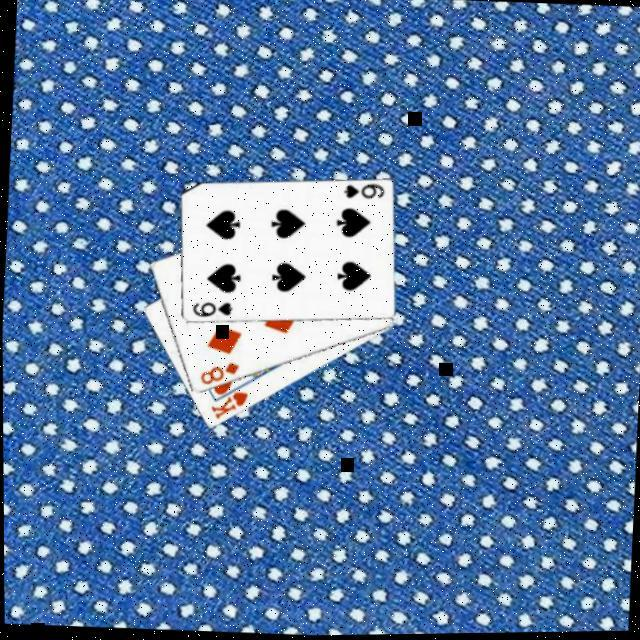6S: (190, 297, 237, 322), (341, 180, 387, 203)
8D: (196, 358, 242, 390)
KH: (208, 387, 252, 424)
